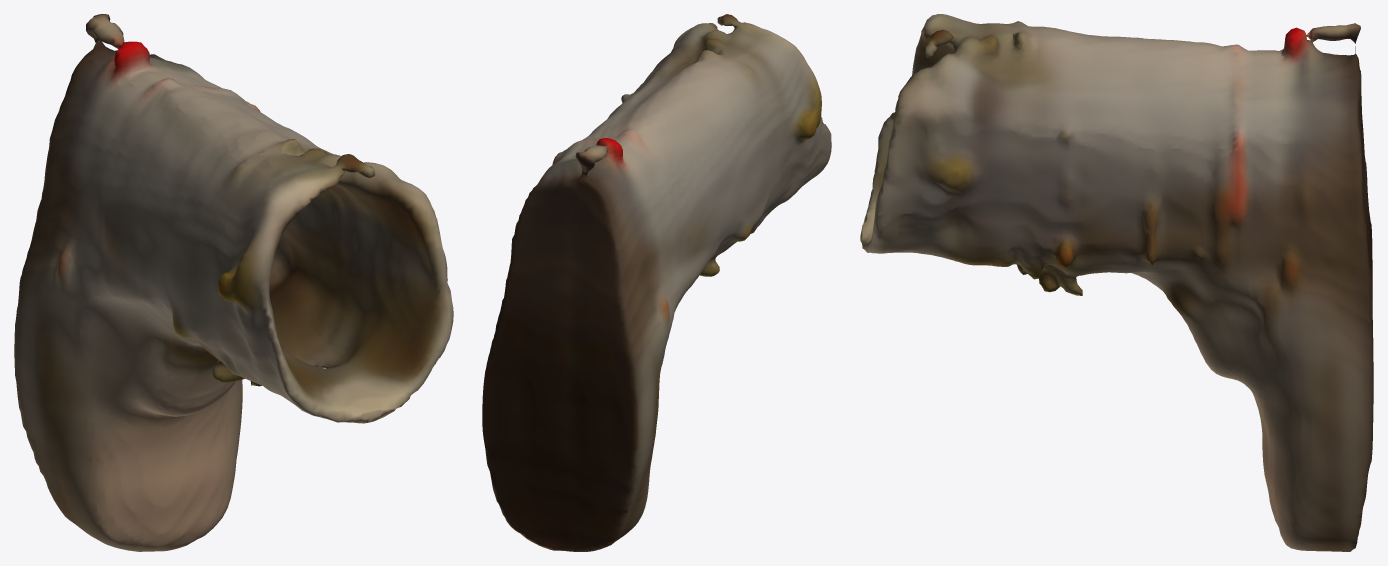
The model's file is shoe1.glb.
3 views of the same model, side by side, from view 1: azimuth 30°, elevation 25°; view 2: azimuth 150°, elevation 25°; view 3: azimuth 270°, elevation 25° (orthographic). The views are drawn at different scales.
Bounding box in the file's own units: 0.4137 × 1 × 0.9163.
